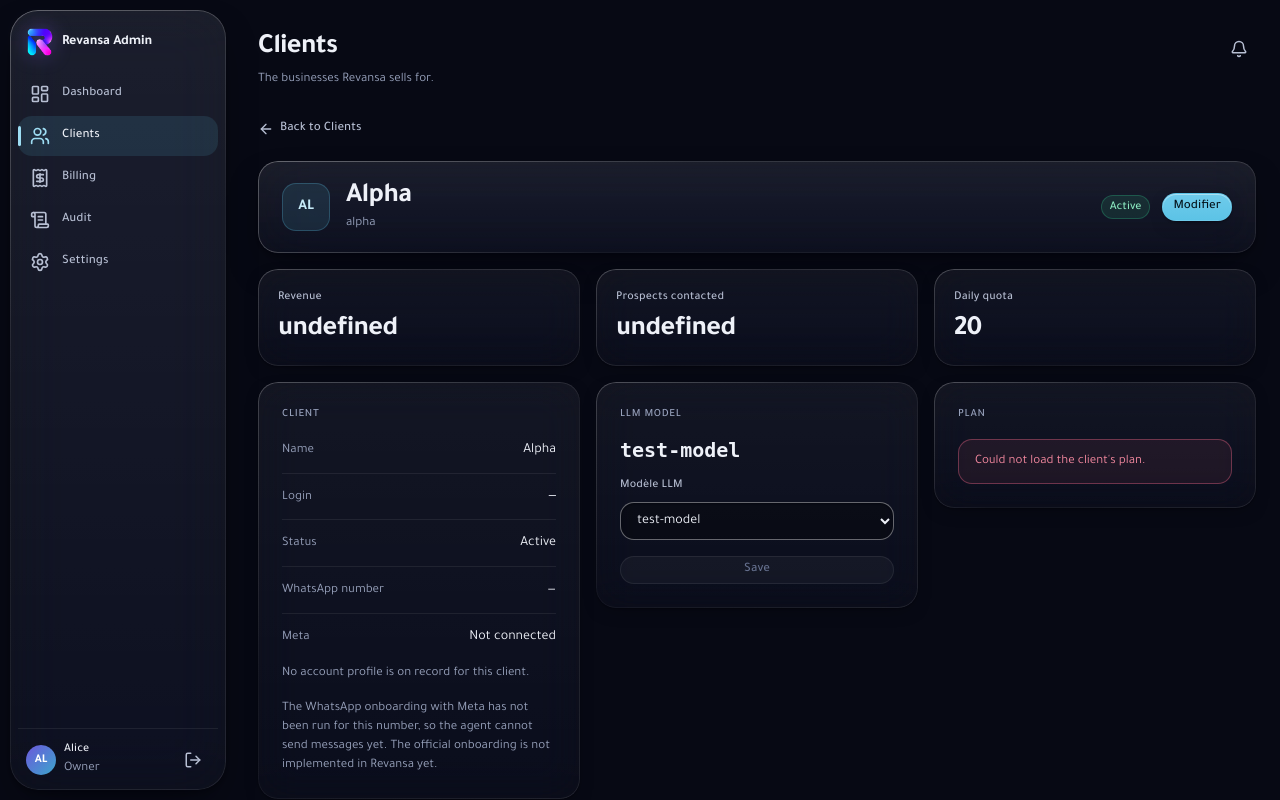
Test: AdminClientDetailPage LLM model › shows a clear error when the server rejects the update
Select "gpt-5" in the dropdown labelled "Modèle LLM" at (757, 521), box [620,502,894,540]
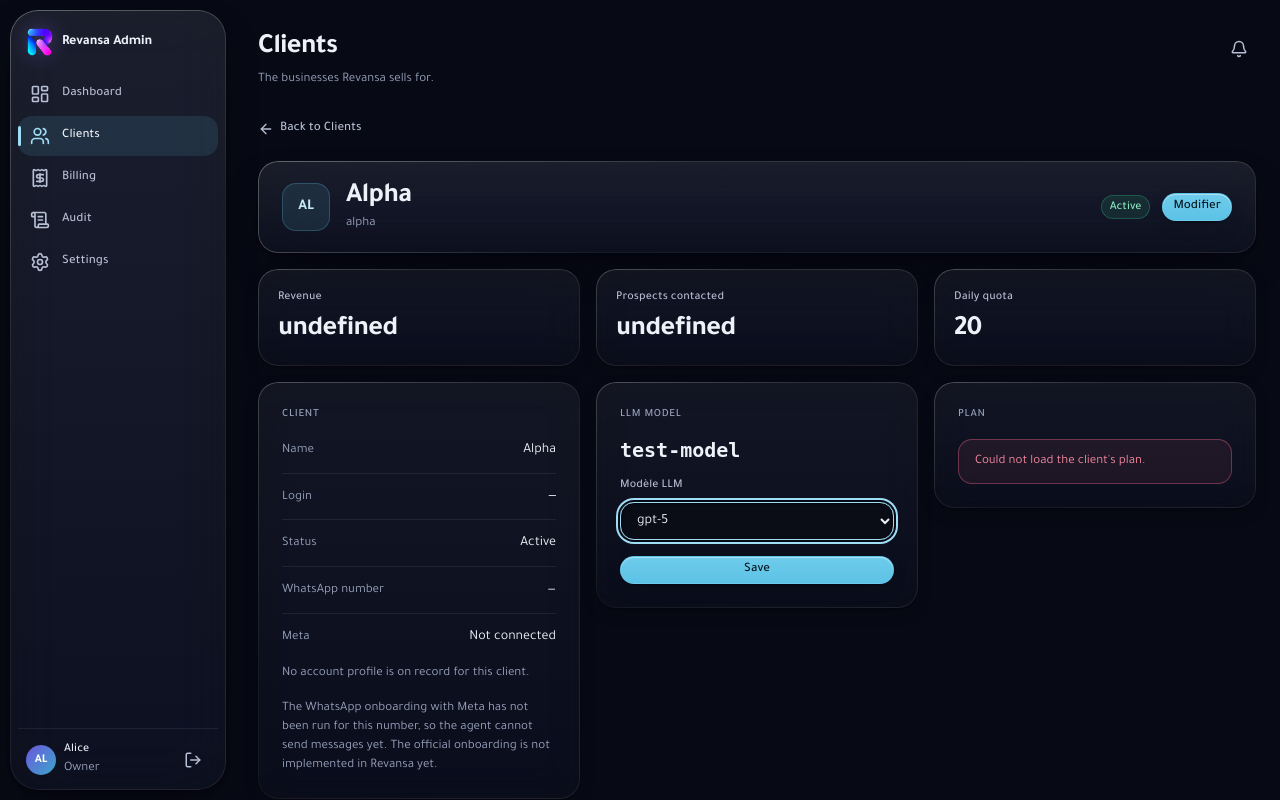
Click the button "Save" at (757, 570), box [620,556,894,584]
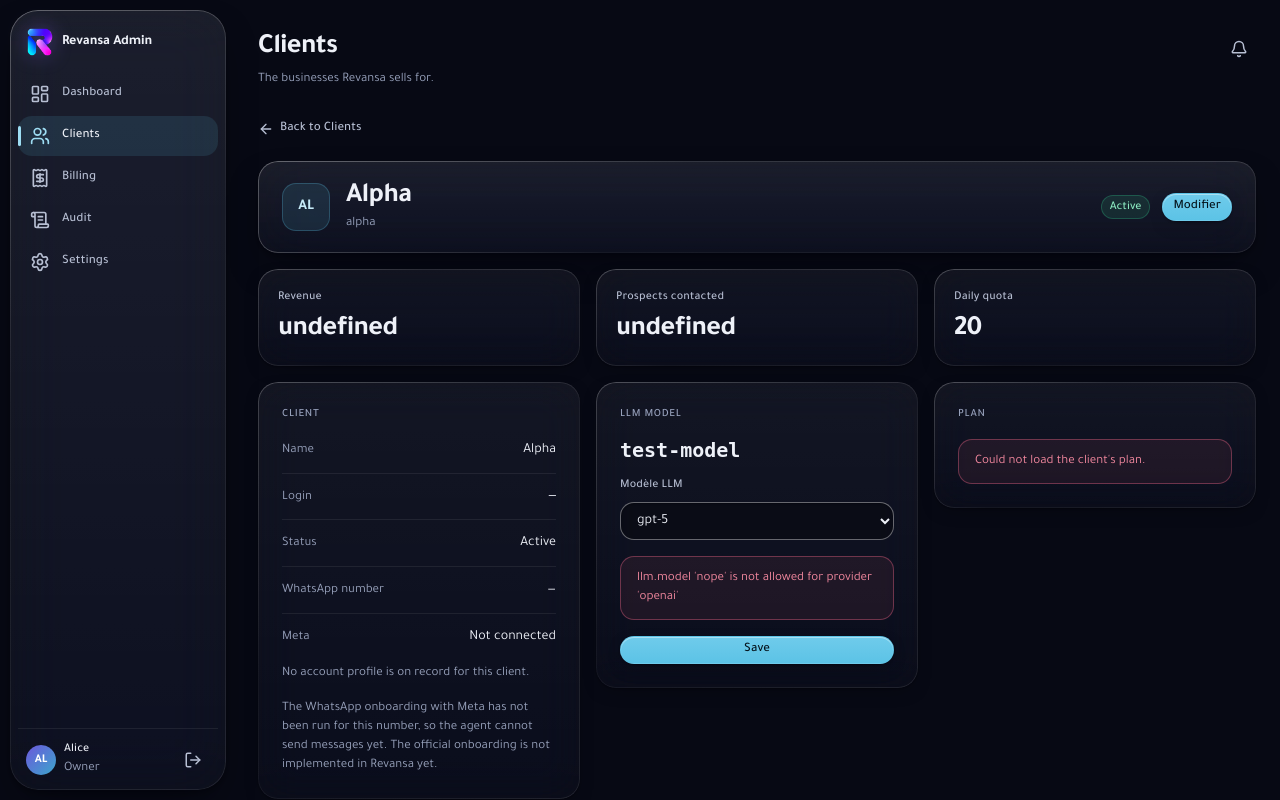
Now the text "llm.model 'nope' is not allowed for provider 'openai'" is shown, box [620,556,894,620]
